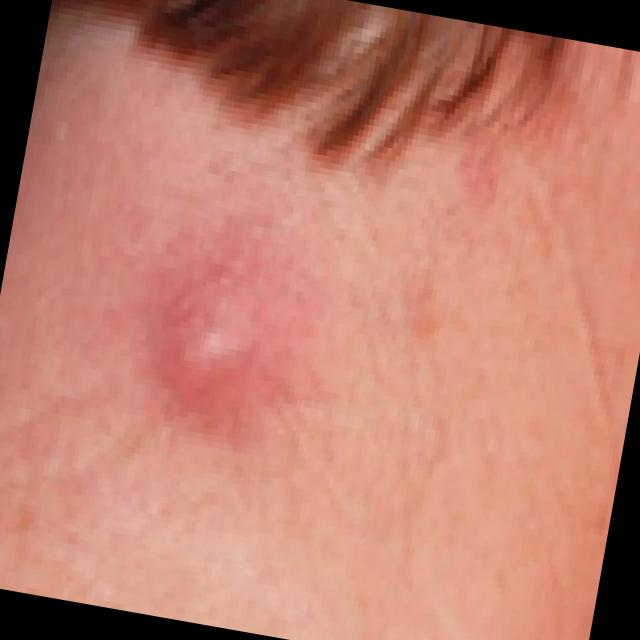nodule: (144, 256, 278, 418)
